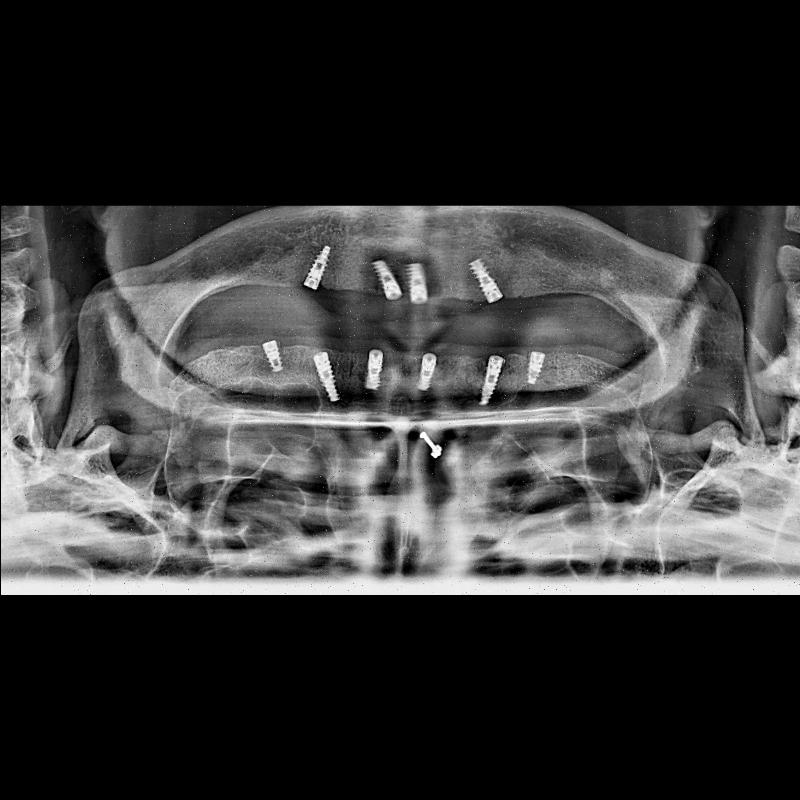NORIS: (469, 255, 504, 305), (472, 354, 506, 404), (310, 351, 340, 403), (304, 243, 332, 291), (525, 348, 545, 386), (262, 339, 284, 373)
